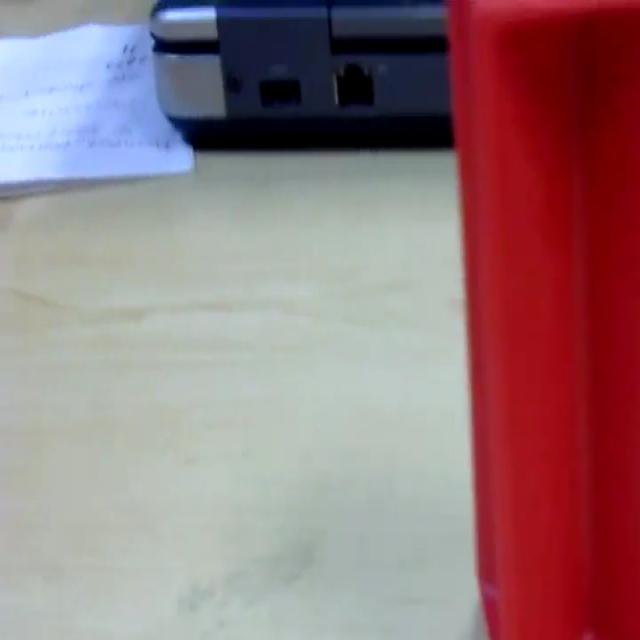red_block: (446, 0, 638, 636)
